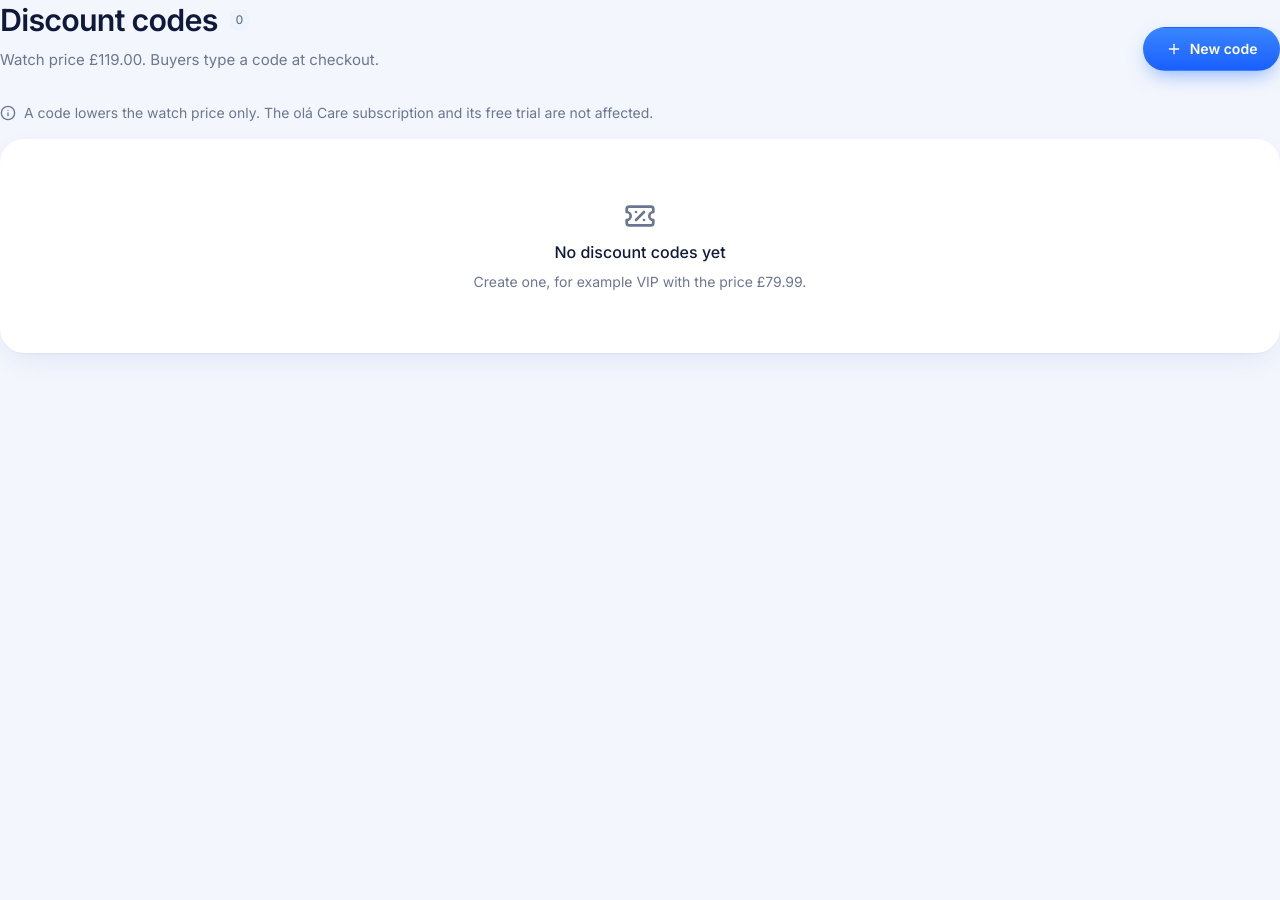
Test: DiscountsPage › refuses a price at or above the watch price
Step 1. Click the button "New code" → (1212, 49), box [1143,27,1279,71]
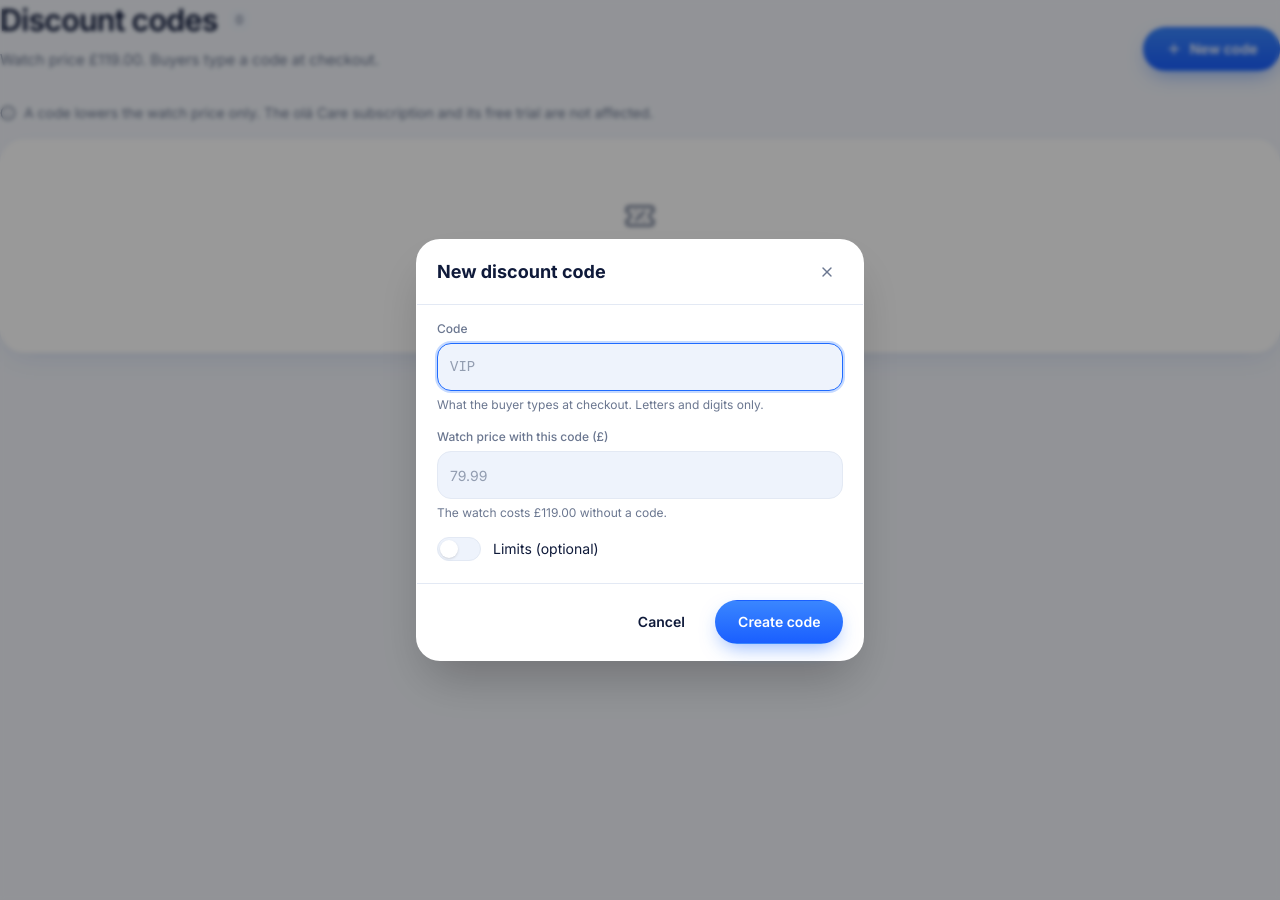
Step 2. Type "FREE" into the field labelled "Code" → (640, 367), box [437,343,843,391]
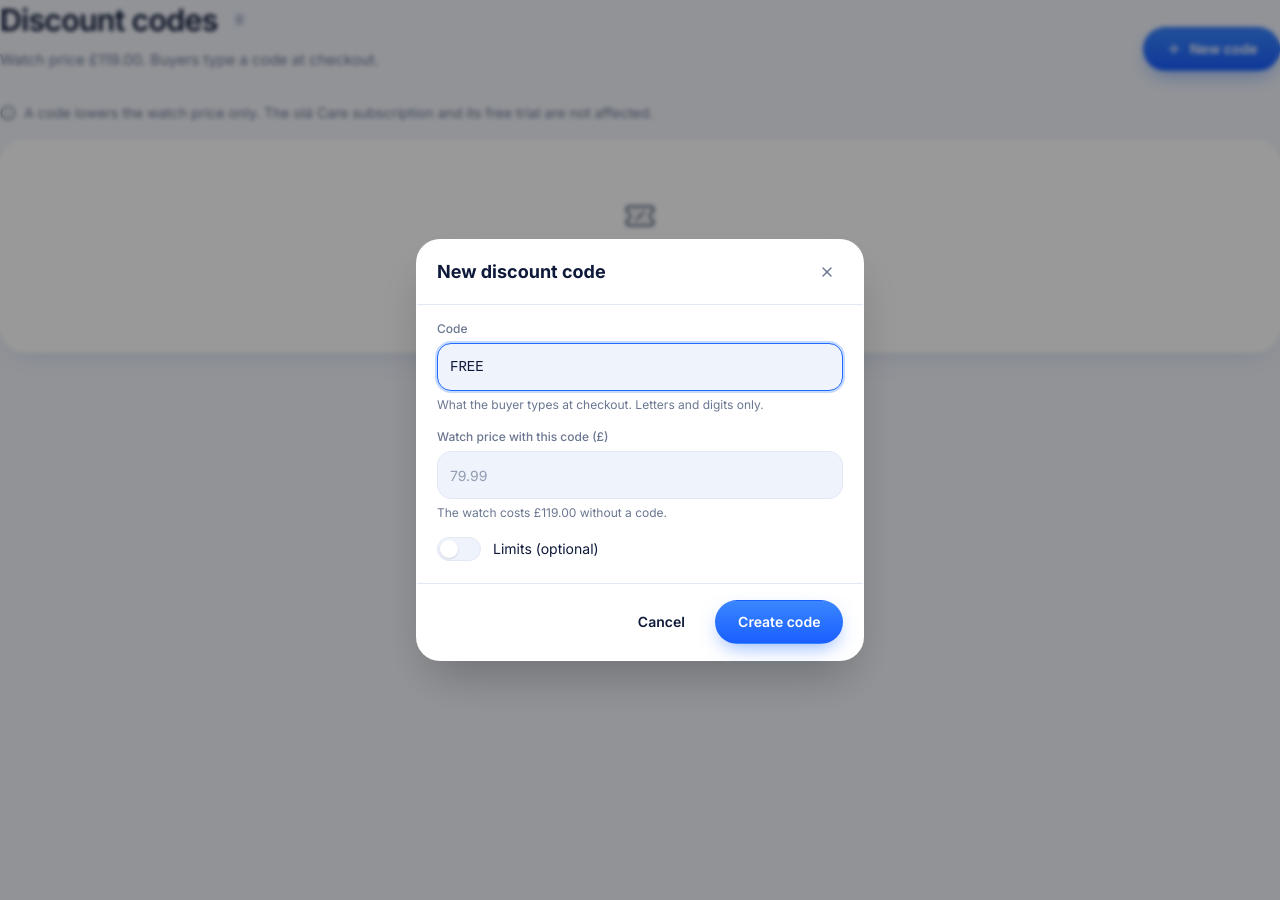
Step 3. Type "119" into the field labelled "Watch price with this code (£)" → (640, 475), box [437,451,843,499]
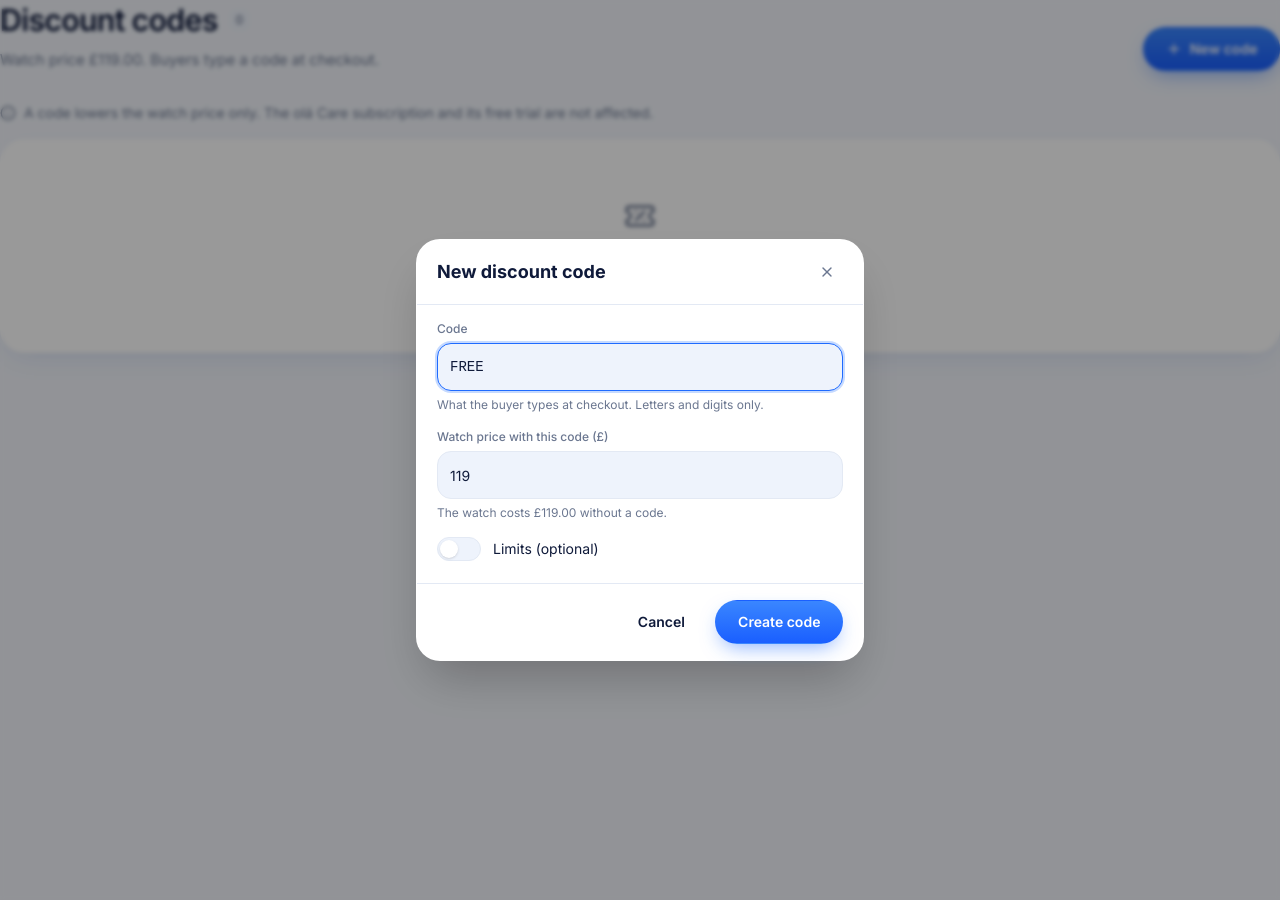
Step 4. Click the button "Create code" → (779, 622), box [716,600,843,644]
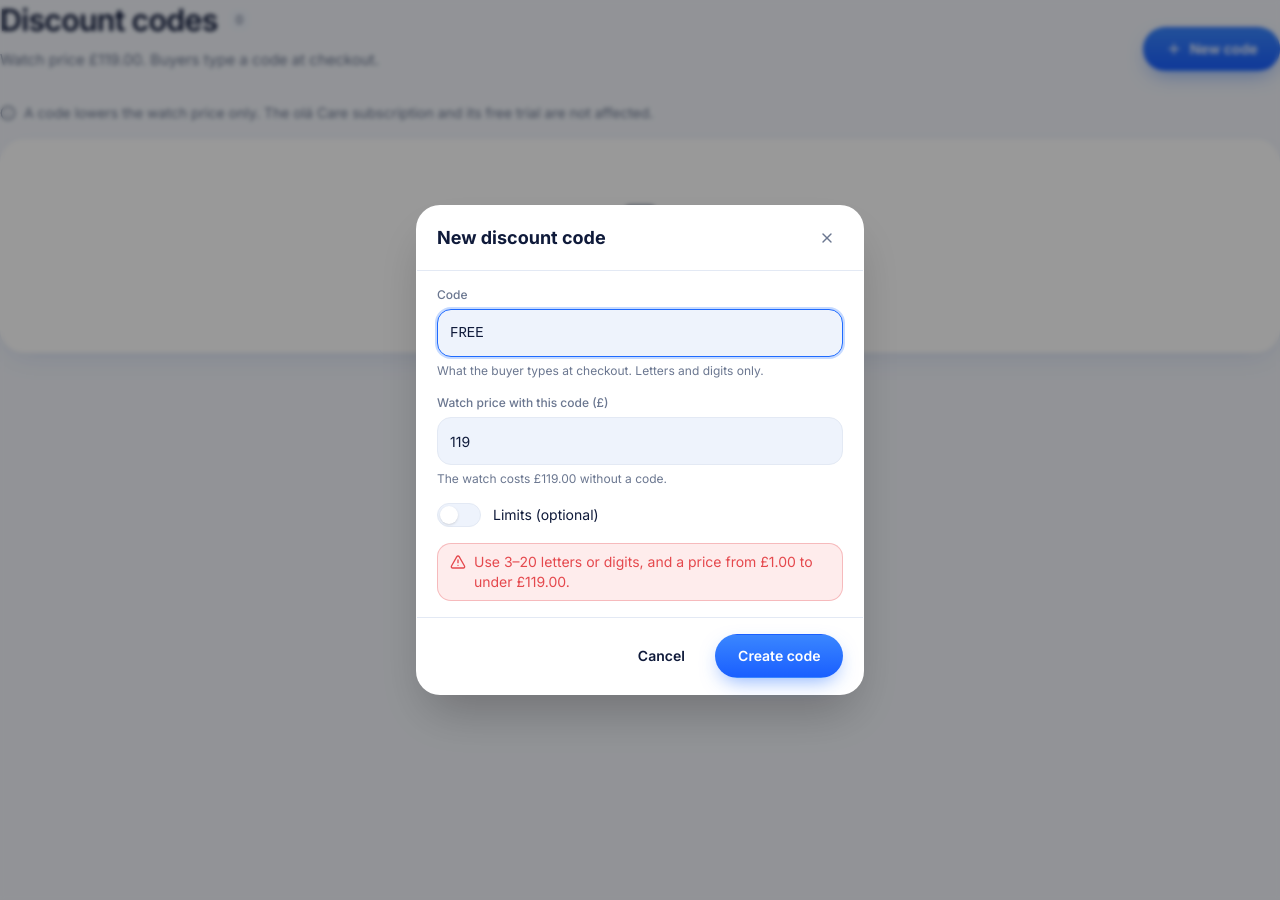
Now the text "under £119.00" is shown, box [474,553,813,590]
